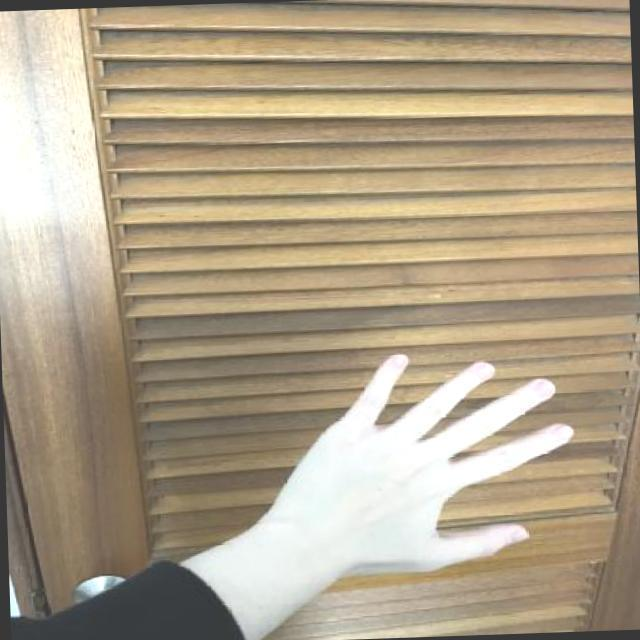hand: (250, 333, 584, 589)
